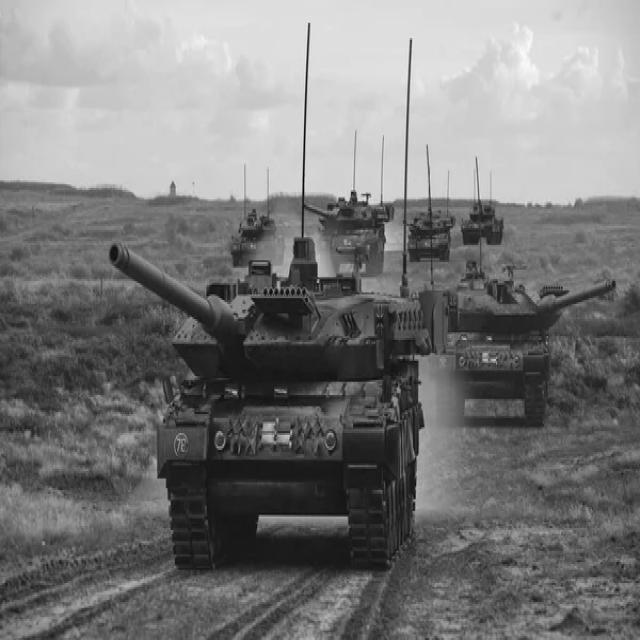Tank: (110, 224, 430, 590), (423, 258, 618, 428)
